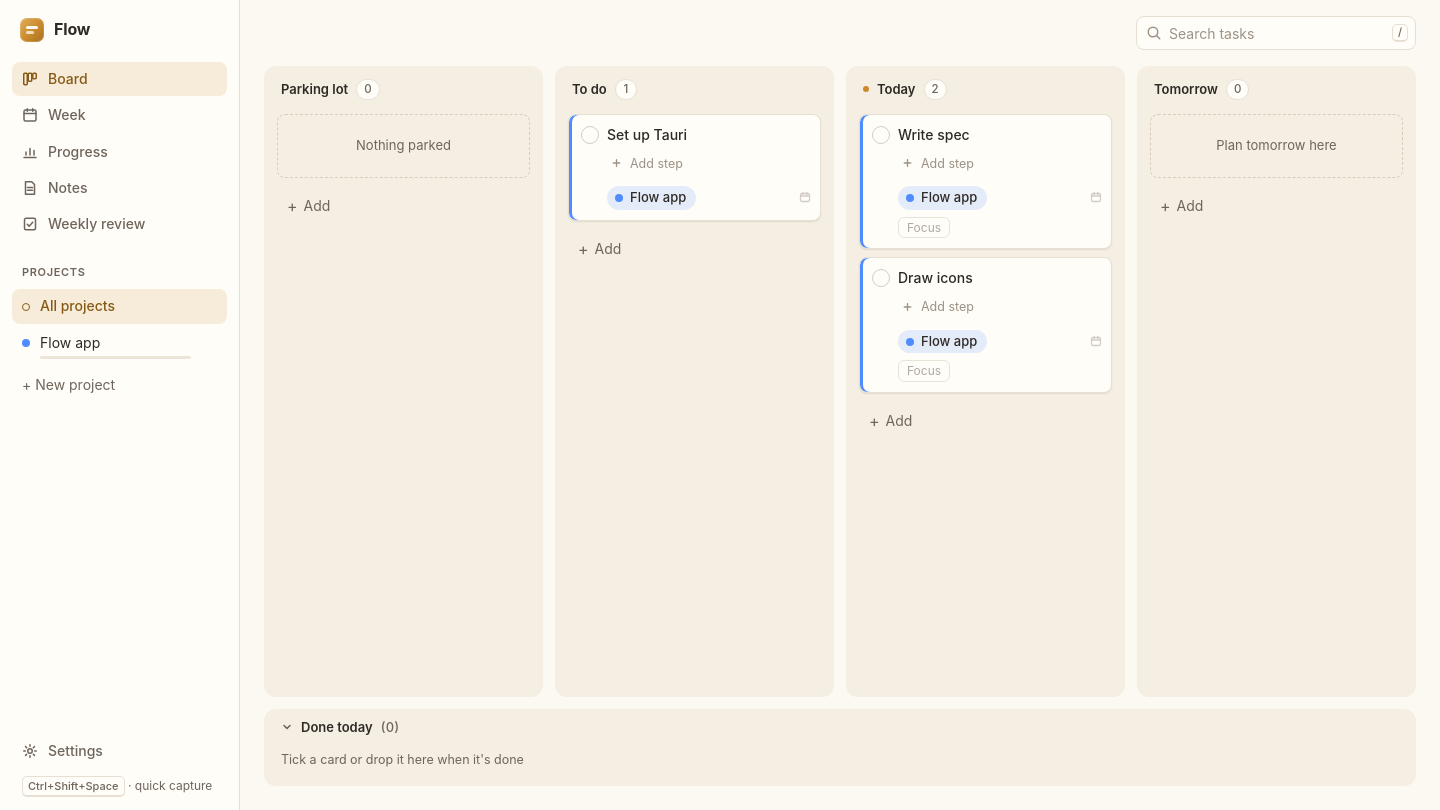
Test: focus timer › pauses, freezes, and resumes
Click the button with aria-label "Focus on Write spec" at (924, 228), box [898,217,950,238]
Wait 5000 ms
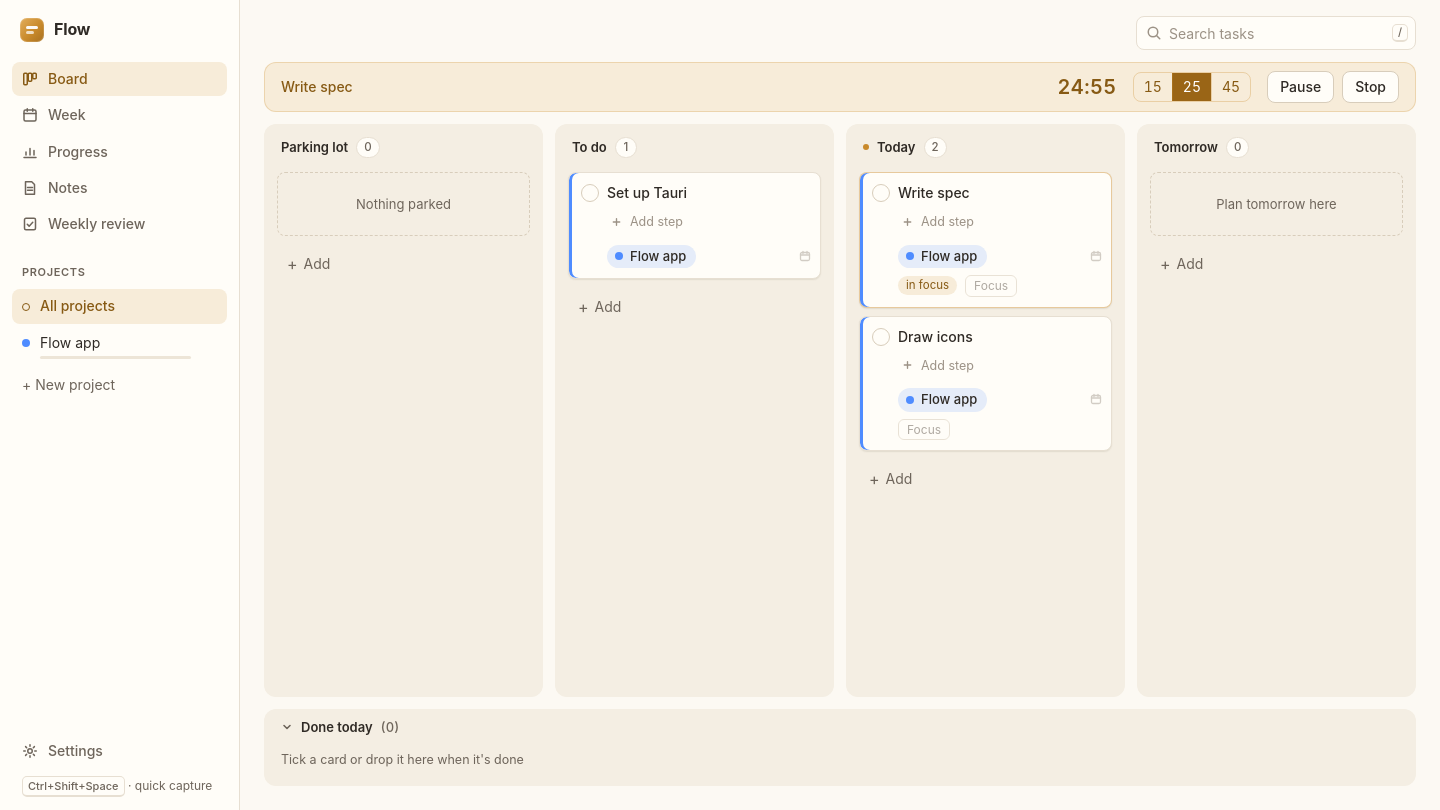
Click the button "Pause" at (1301, 87), box [1267,71,1334,103]
Wait 60000 ms
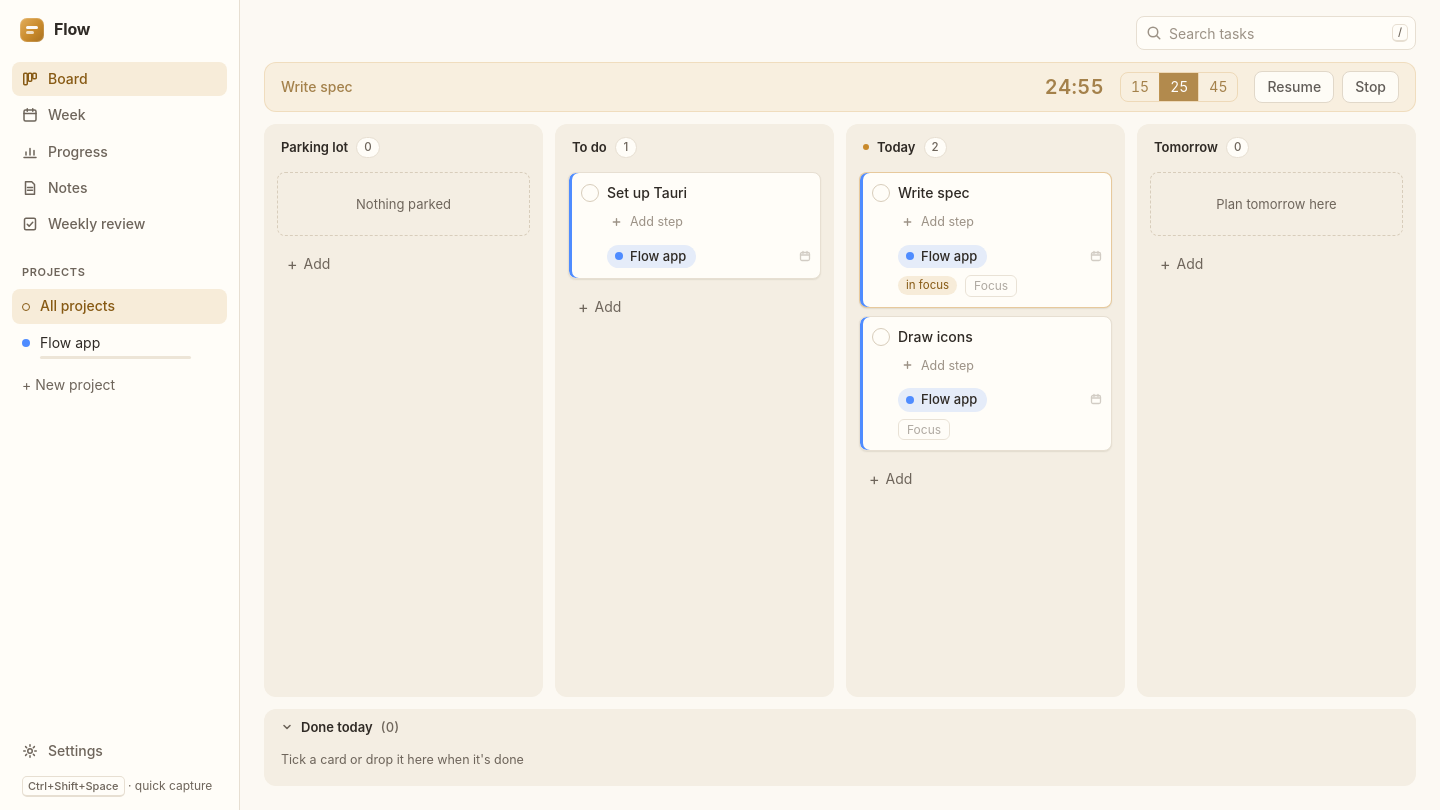
Expected: the element named "Focus timer" shows "24:55", [1045,75,1104,99]
Click the button "Resume" at (1294, 87), box [1254,71,1334,103]
Wait 1000 ms
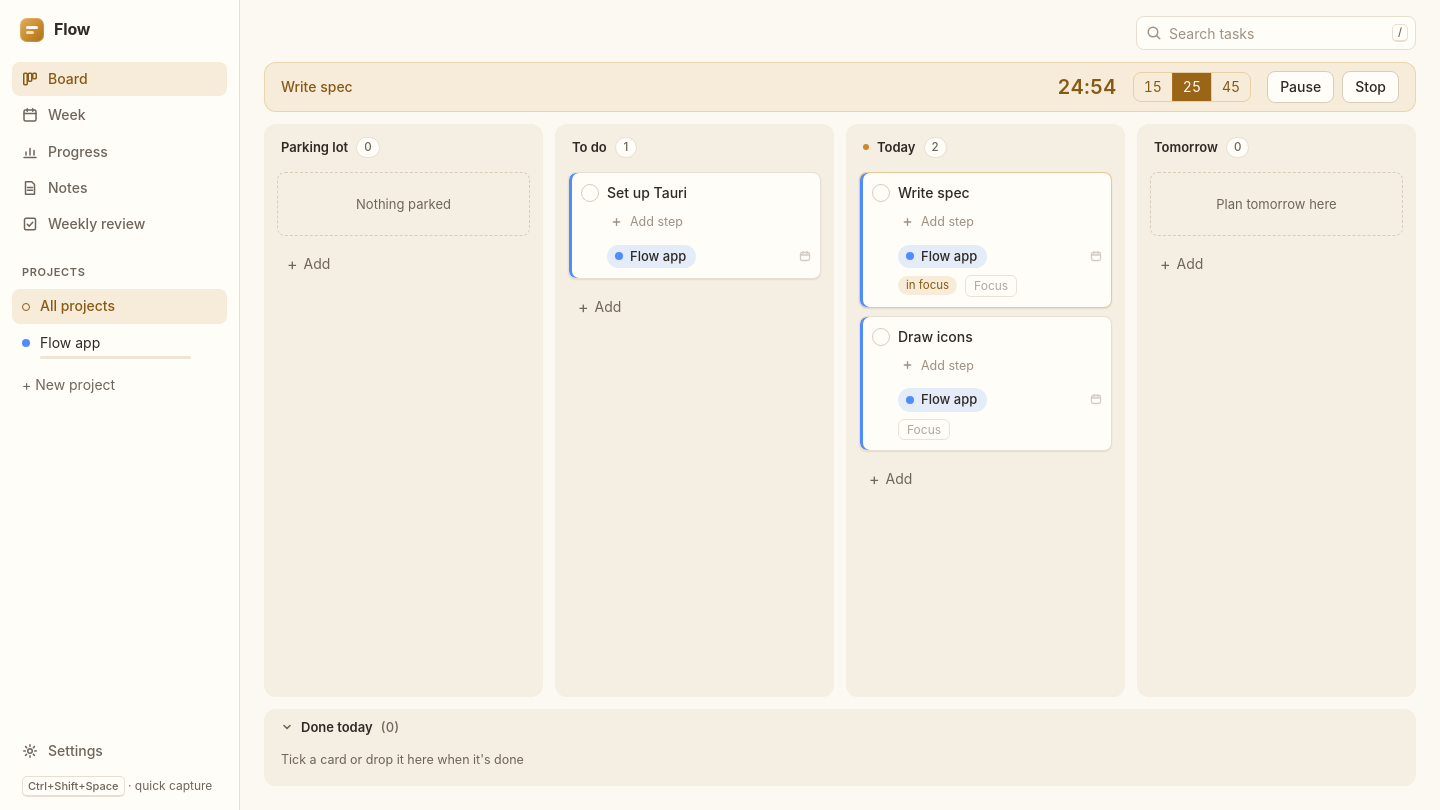
Expected: the element named "Focus timer" shows "24:54", [1058,75,1117,99]
